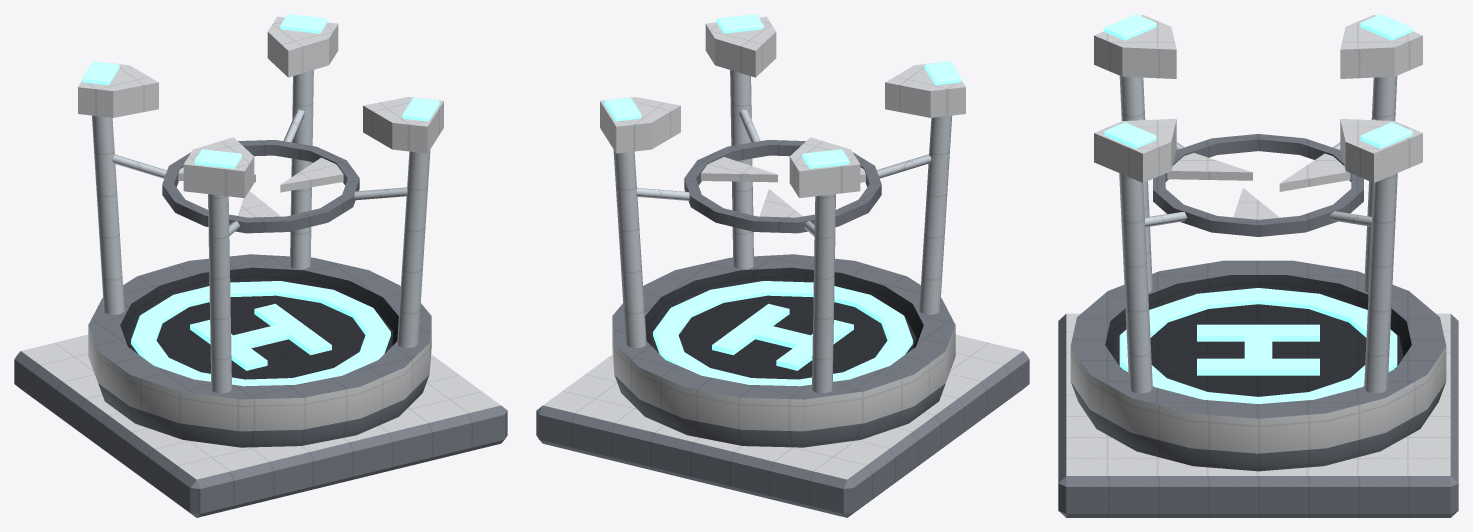
Rendered from R4X_FlyingDroneDeployer_LOD1.glb.
The picture shows the model from 3 angles, left to right: view 1: azimuth 30°, elevation 25°; view 2: azimuth 150°, elevation 25°; view 3: azimuth 270°, elevation 25°; orthographic projection. The views are drawn at different scales.
Visible parts, largest first — view 1: R4X_FlyingDroneDeployer_LOD1; view 2: R4X_FlyingDroneDeployer_LOD1; view 3: R4X_FlyingDroneDeployer_LOD1.
Part boxes in pixels (box(x1,y1,x2,y2)): R4X_FlyingDroneDeployer_LOD1: box(14, 14, 507, 517); R4X_FlyingDroneDeployer_LOD1: box(536, 14, 1029, 517); R4X_FlyingDroneDeployer_LOD1: box(1058, 14, 1458, 517).
Size of the model in its own units: 0.52 by 0.513 by 0.52.
5 materials, 4 textured.
